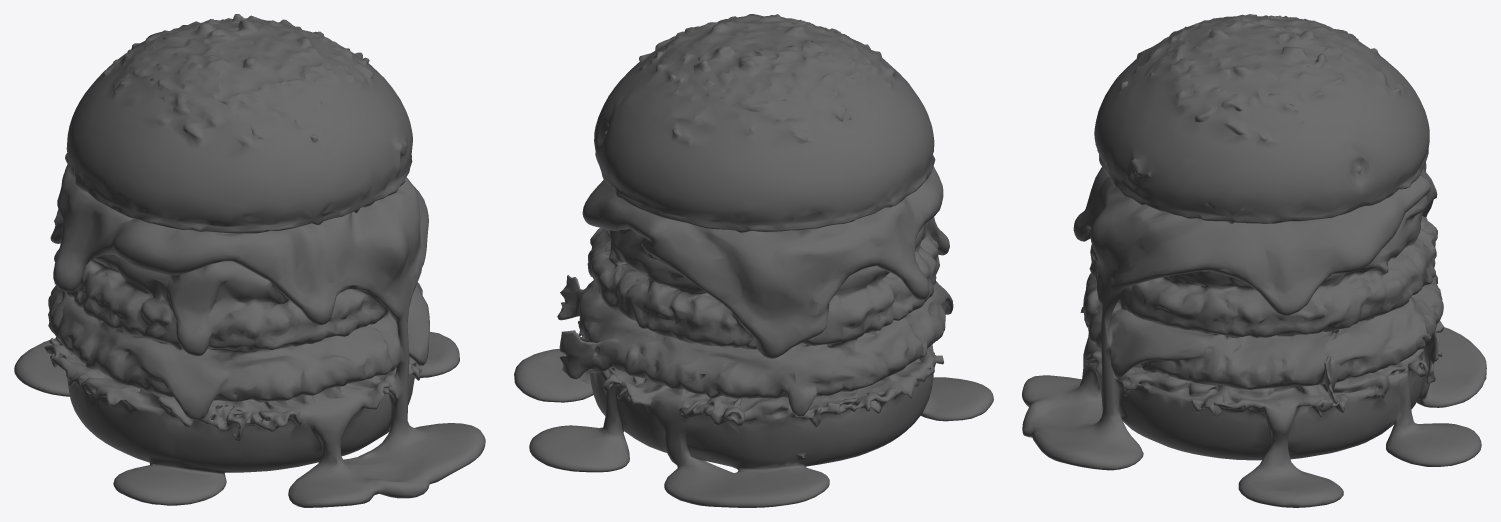
The picture shows the model from 3 angles, left to right: view 1: azimuth 30°, elevation 25°; view 2: azimuth 150°, elevation 25°; view 3: azimuth 270°, elevation 25°; orthographic projection. The views are drawn at different scales.
Parts seen in each view (by area): view 1: mesh_uvwarp; view 2: mesh_uvwarp; view 3: mesh_uvwarp.
Boxes of the visible parts, x1,y1,x2,y2 form: mesh_uvwarp: [14, 14, 485, 507]; mesh_uvwarp: [514, 14, 993, 507]; mesh_uvwarp: [1022, 14, 1486, 507].
Bounding box in the file's own units: 1.95 × 1.76 × 1.99.
Materials: 1 (1 with a texture image).
